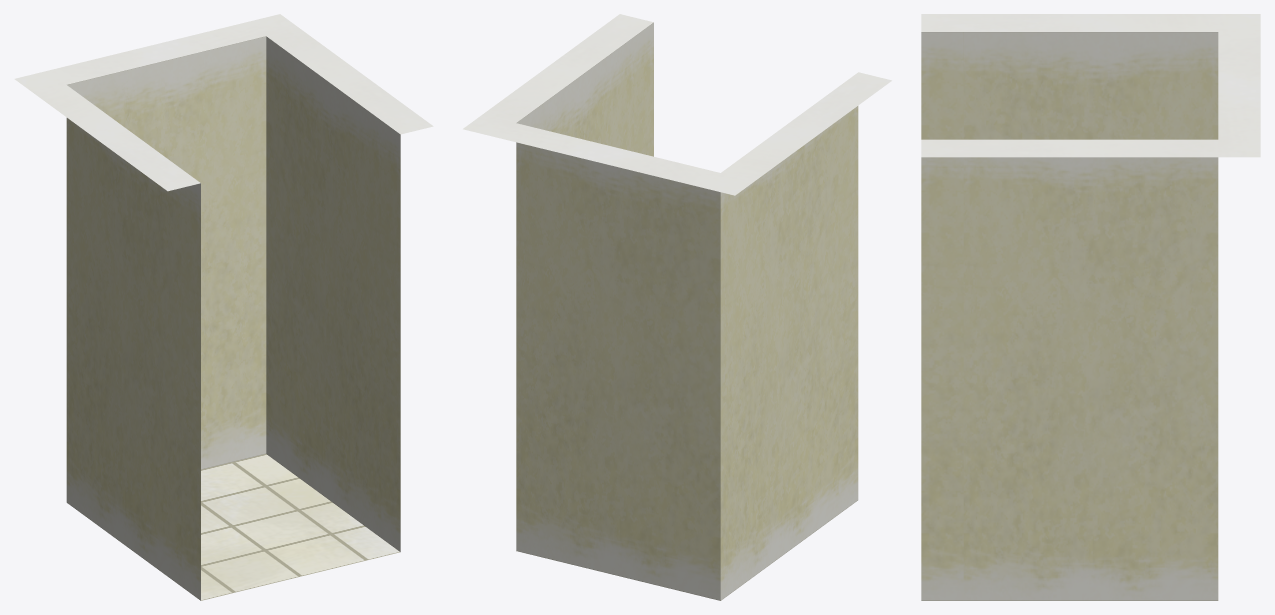
File: maze_1way.FBX
3 renders of one model, left to right at view 1: azimuth 30°, elevation 25°; view 2: azimuth 150°, elevation 25°; view 3: azimuth 270°, elevation 25°, orthographic. The views are drawn at different scales.
Visible parts, largest first — view 1: Plane01; view 2: Plane01; view 3: Plane01.
Boxes of the visible parts, bbox=[...] form: Plane01: bbox=[14, 14, 433, 600]; Plane01: bbox=[463, 14, 891, 600]; Plane01: bbox=[921, 14, 1260, 600].
Bounding box in the file's own units: 32 × 48 × 32.
